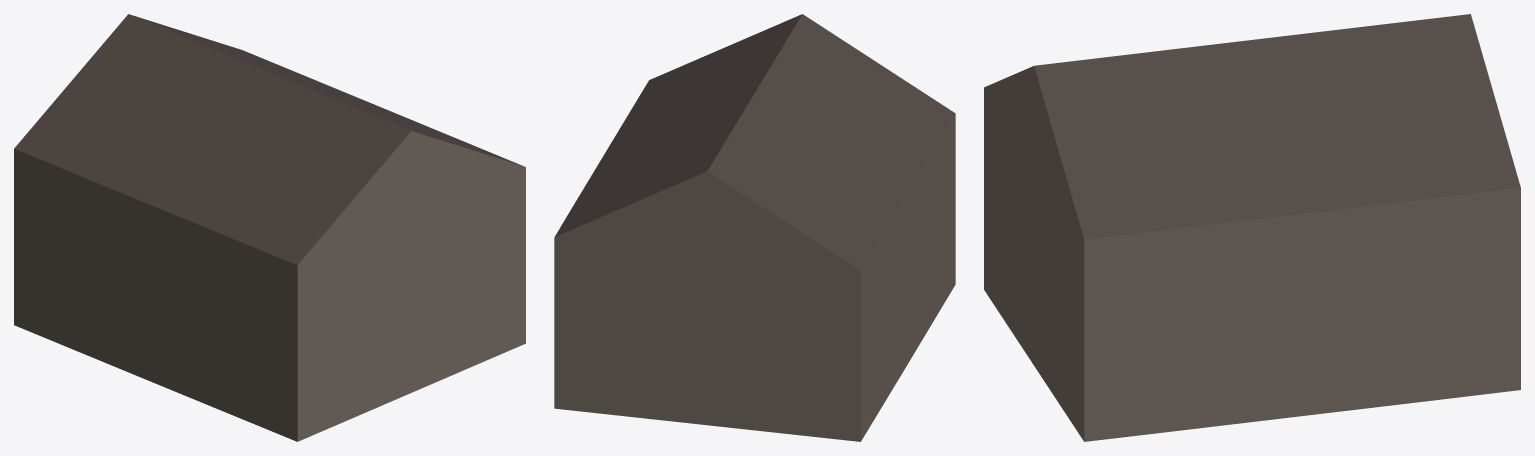
3 renders of one model, left to right at view 1: azimuth 30°, elevation 25°; view 2: azimuth 150°, elevation 25°; view 3: azimuth 270°, elevation 25°, orthographic. The views are drawn at different scales.
Parts seen in each view (by area): view 1: HP-w1198847855; view 2: HP-w1198847855; view 3: HP-w1198847855.
Boxes of the visible parts, x1,y1,x2,y2 form: HP-w1198847855: (14, 14, 525, 441); HP-w1198847855: (554, 14, 955, 441); HP-w1198847855: (984, 14, 1520, 441).
Bounding box in the file's own units: 12.99 × 8.9 × 14.44.
